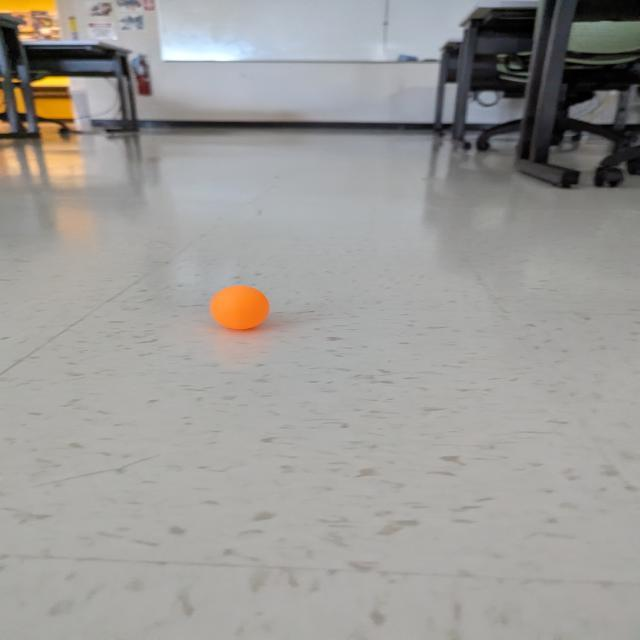ping-pong-ball: (203, 280, 274, 334)
